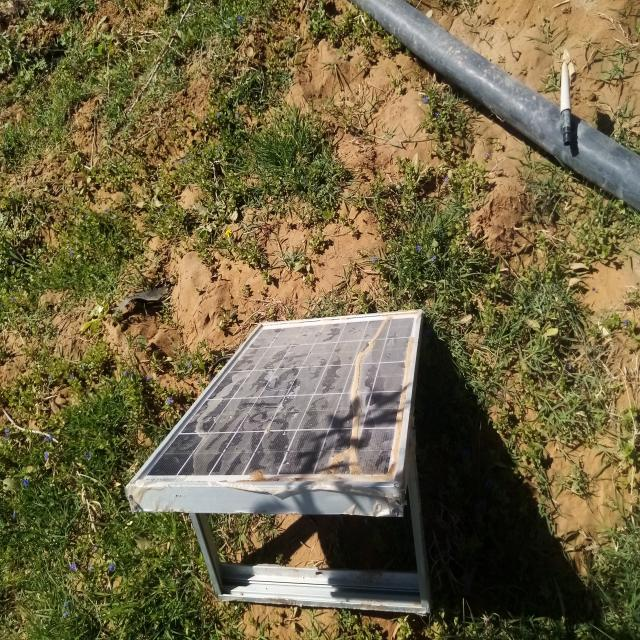faulty: (130, 311, 420, 487)
